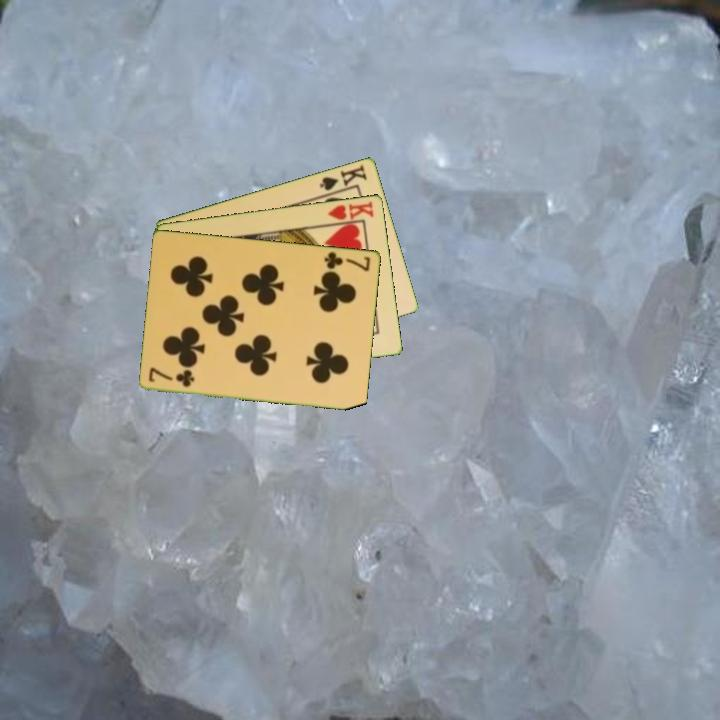7c: (321, 248, 373, 274), (145, 364, 197, 390)
Kh: (322, 197, 377, 227)
Ks: (316, 161, 370, 198)
